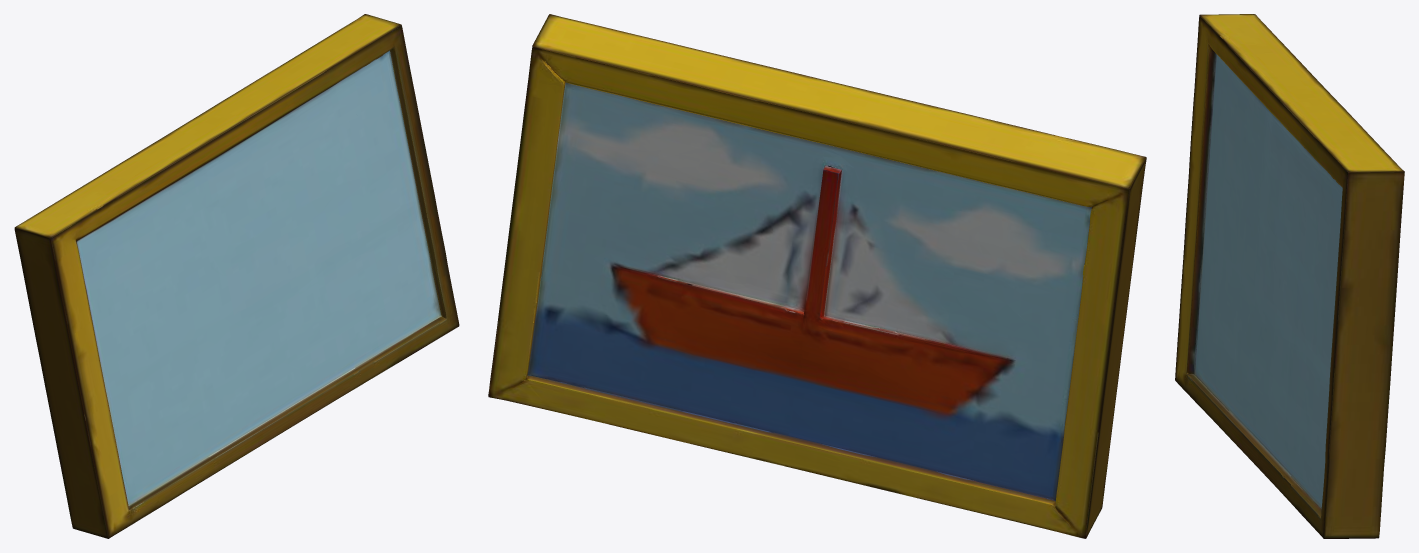
Rendered from framed_sailboat_picture_on_wall_000.glb.
3 renders of one model, left to right at view 1: azimuth 30°, elevation 25°; view 2: azimuth 150°, elevation 25°; view 3: azimuth 270°, elevation 25°, orthographic. The views are drawn at different scales.
Visible parts, largest first — view 1: framed_sailboat_picture_on_wall_000.obj; view 2: framed_sailboat_picture_on_wall_000.obj; view 3: framed_sailboat_picture_on_wall_000.obj.
Boxes of the visible parts, bbox=[...] form: framed_sailboat_picture_on_wall_000.obj: bbox=[14, 14, 459, 538]; framed_sailboat_picture_on_wall_000.obj: bbox=[488, 14, 1146, 538]; framed_sailboat_picture_on_wall_000.obj: bbox=[1175, 14, 1404, 538].
Size of the model in its own units: 0.4492 by 0.3352 by 0.1679.
Materials: 1 (1 with a texture image).
